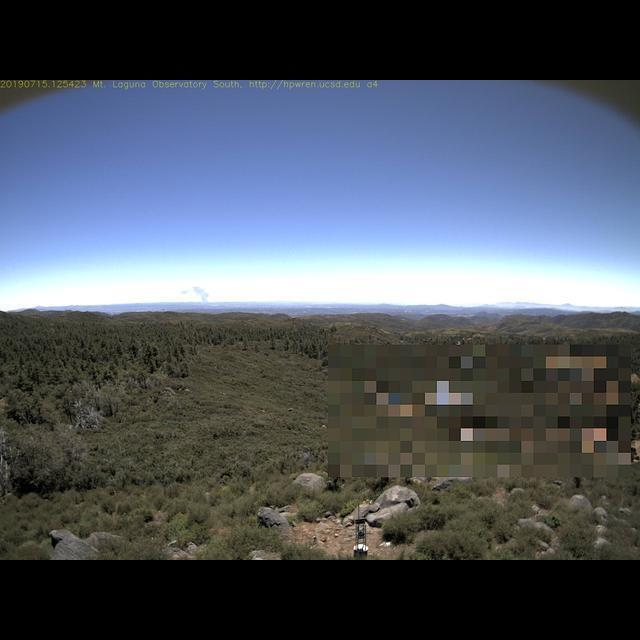Smoke: (179, 283, 213, 309)
